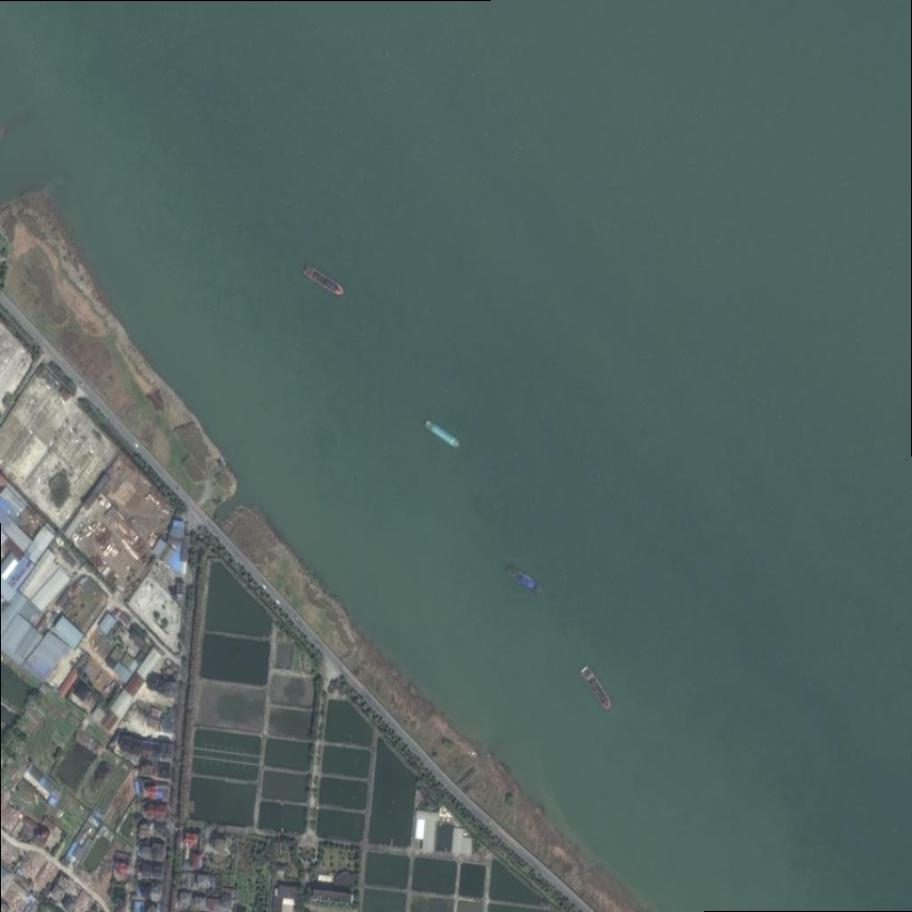ship: (300, 260, 350, 296), (580, 666, 615, 713), (504, 561, 545, 596), (423, 418, 461, 449)
